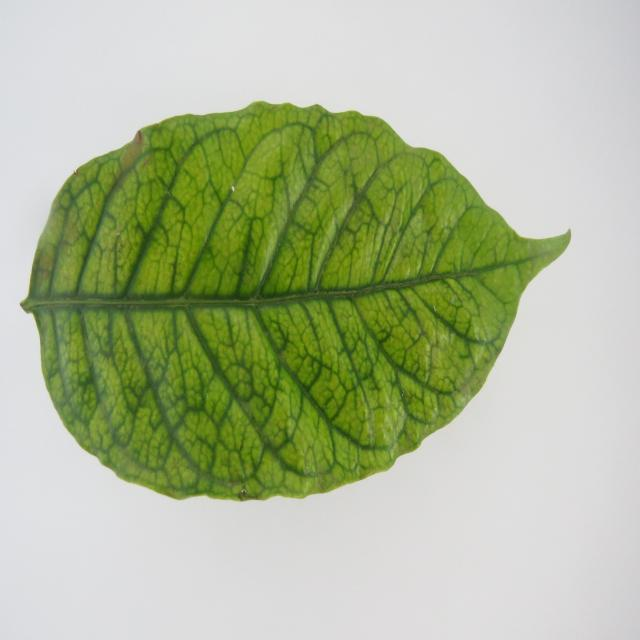DeficienciaNutricional-Magnesio: (22, 102, 570, 500)
